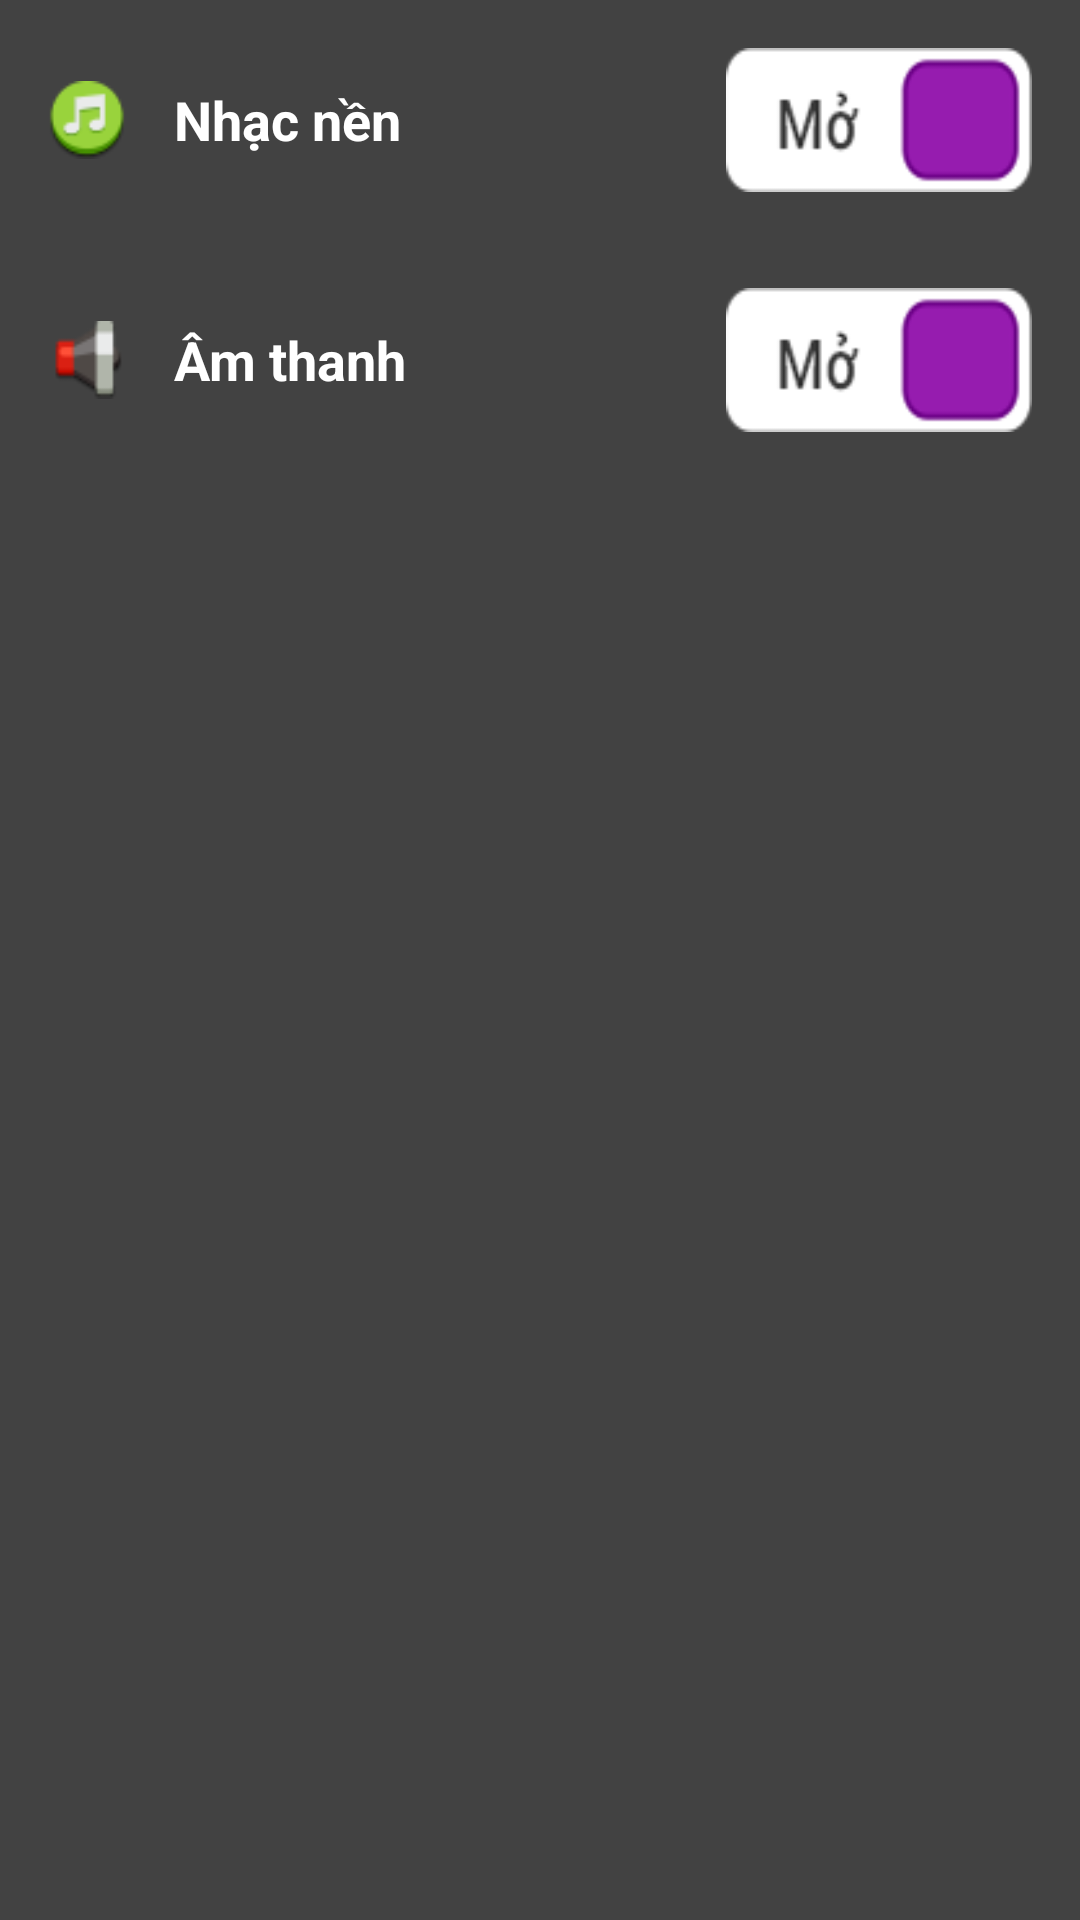

Icon bounding boxes for this 1080*1920 phone screenshot, format (left=x1, top=y1, right=x2, bottom=y2):
music: (left=50, top=81, right=124, bottom=157)
sound: (left=55, top=321, right=120, bottom=396)
